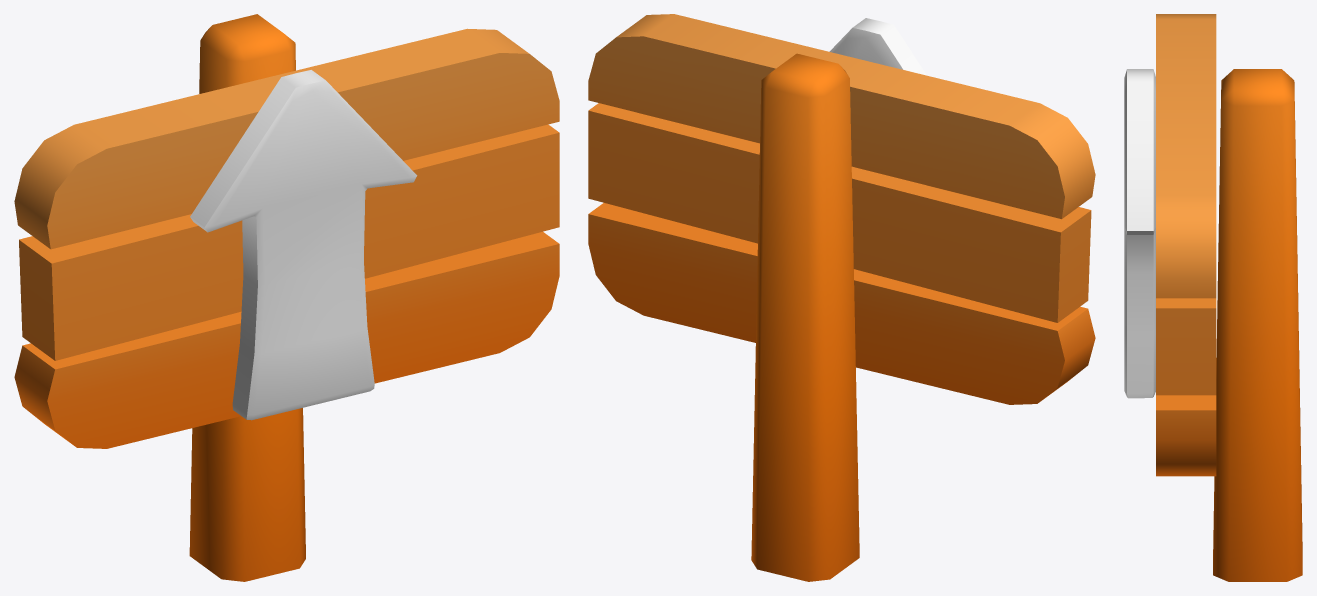
Rendered from Prop_Wooden_Sign_03.fbx.
The picture shows the model from 3 angles, left to right: view 1: azimuth 30°, elevation 25°; view 2: azimuth 150°, elevation 25°; view 3: azimuth 270°, elevation 25°; orthographic projection. The views are drawn at different scales.
Parts seen in each view (by area): view 1: Prop_Wooden_Sign_03; view 2: Prop_Wooden_Sign_03; view 3: Prop_Wooden_Sign_03.
Part boxes in pixels (left/top/right/bottom): Prop_Wooden_Sign_03: left=14, top=14, right=559, bottom=581; Prop_Wooden_Sign_03: left=588, top=14, right=1095, bottom=581; Prop_Wooden_Sign_03: left=1124, top=14, right=1302, bottom=581.
Bounding box in the file's own units: 90.11 × 88.8 × 29.65.
